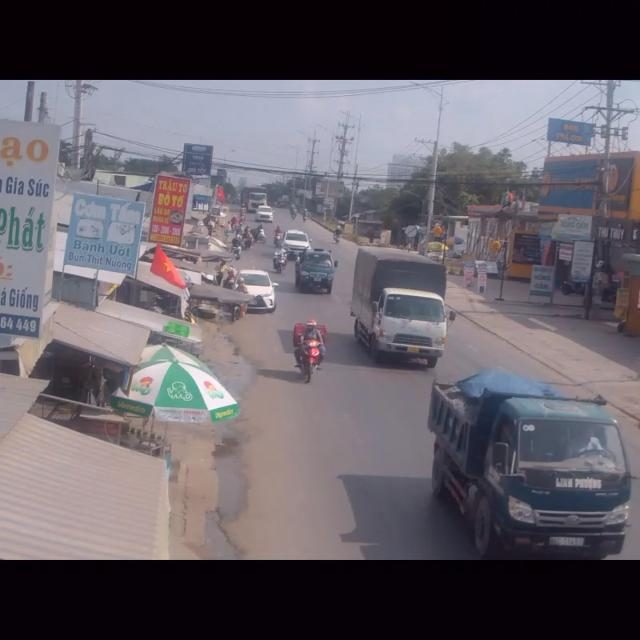motorbike: (296, 320, 323, 385)
truck: (430, 374, 632, 558), (348, 246, 449, 368), (294, 247, 338, 296)
